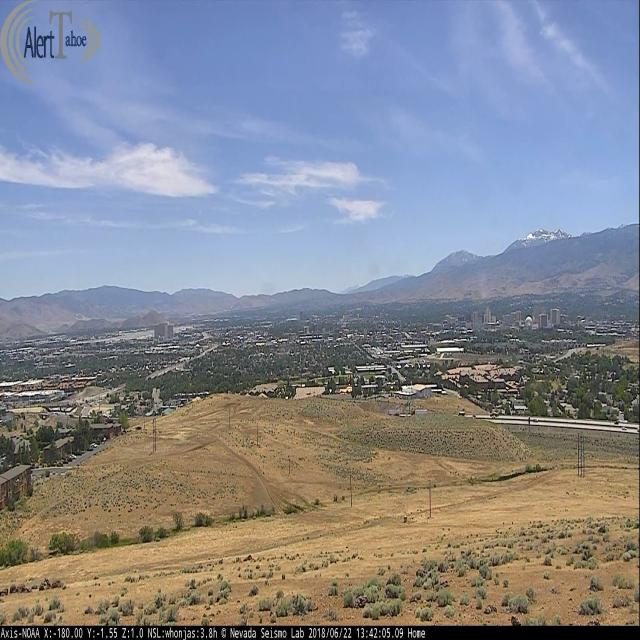smoke: (480, 275, 488, 302)
